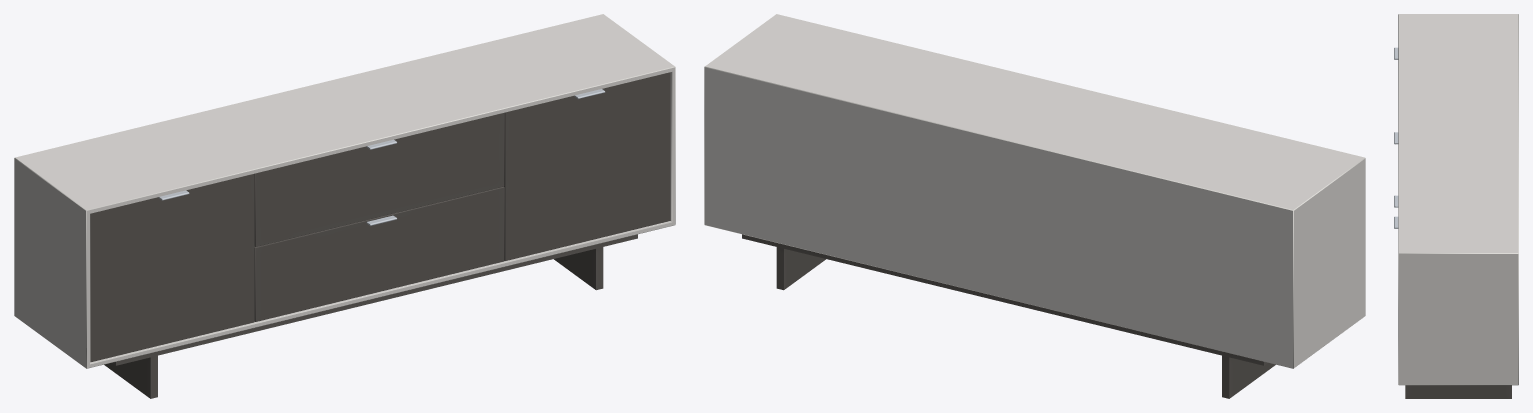
File: Credenzas.fbx
3 views of the same model, side by side, from view 1: azimuth 30°, elevation 25°; view 2: azimuth 150°, elevation 25°; view 3: azimuth 270°, elevation 25° (orthographic). The views are drawn at different scales.
Visible parts, largest first — view 1: Credenzas4; view 2: Credenzas4; view 3: Credenzas4.
Part boxes in pixels (x1,y1,x2,y2): Credenzas4: (14, 14, 675, 398); Credenzas4: (704, 14, 1365, 398); Credenzas4: (1394, 14, 1518, 398).
Size of the model in its own units: 203 by 68.6 by 44.8.
1 material, 1 textured.
